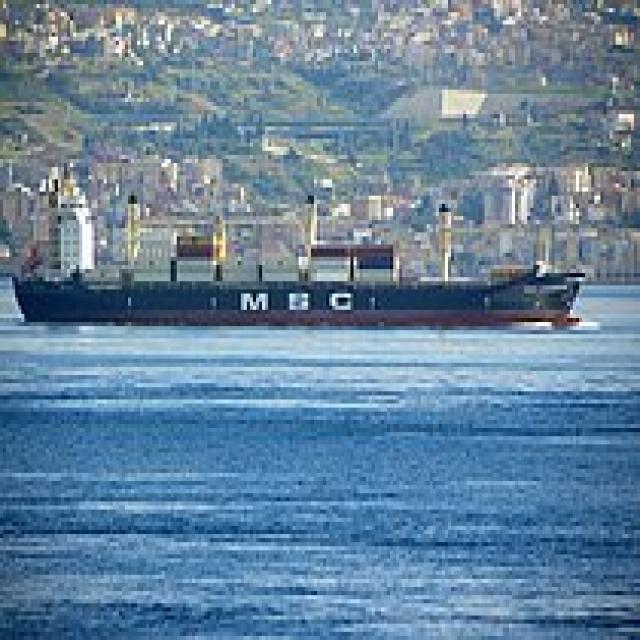Ship: (7, 254, 592, 340)
